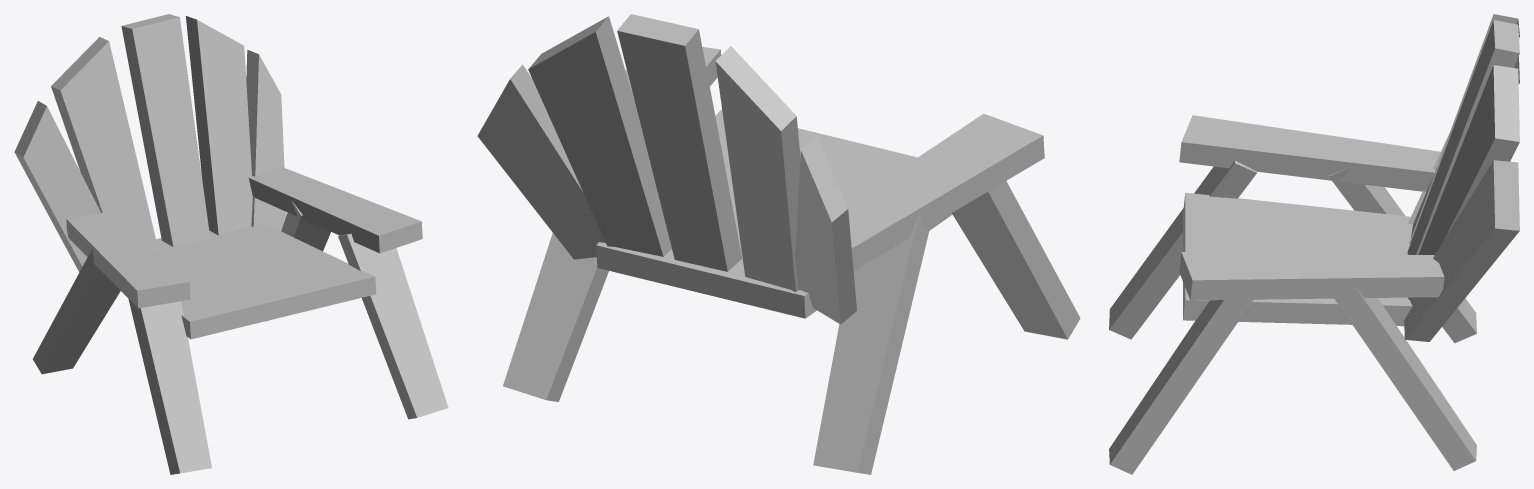
Rendered from obs_med_beachChair.fbx.
3 views of the same model, side by side, from view 1: azimuth 30°, elevation 25°; view 2: azimuth 150°, elevation 25°; view 3: azimuth 270°, elevation 25° (orthographic). The views are drawn at different scales.
Visible parts, largest first — view 1: pCube112; view 2: pCube112; view 3: pCube112.
Boxes of the visible parts, x1=… form: pCube112: x1=14, y1=14, x2=448, y2=474; pCube112: x1=477, y1=14, x2=1080, y2=474; pCube112: x1=1109, y1=14, x2=1519, y2=474.
Bounding box in the file's own units: 1.04 × 1.08 × 1.09.
